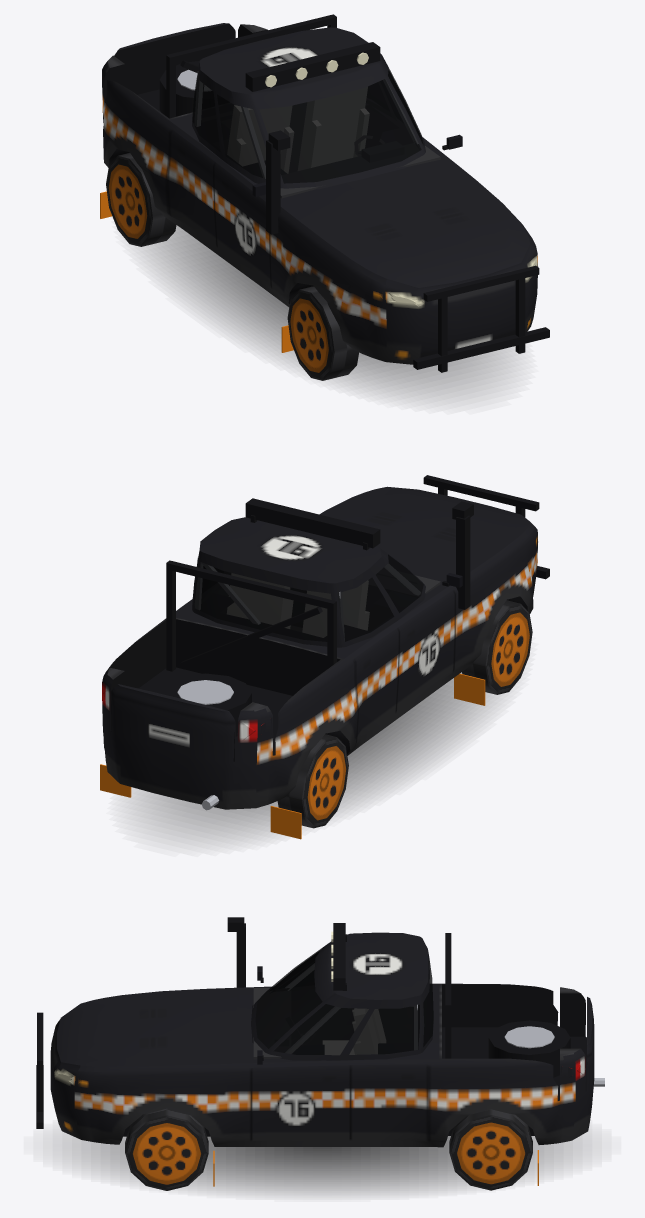
Rendered from tabuleiro.glb.
3 renders of one model, top to bottom at view 1: azimuth 30°, elevation 25°; view 2: azimuth 150°, elevation 25°; view 3: azimuth 270°, elevation 25°, orthographic. The views are drawn at different scales.
Parts seen in each view (by area): view 1: Carroceria, Capo_malha, Sombra, Interior, Porta_D_malha, Porta_TD_malha, Roda_DD, Roda_TD, Tampa_malha, Porta_E_malha; view 2: Carroceria, Sombra, Capo_malha, Porta_TD_malha, Porta_D_malha, Tampa_malha, Interior, Roda_TD, Roda_DD; view 3: Carroceria, Sombra, Capo_malha, Porta_E_malha, Porta_TE_malha, Interior, Roda_DE, Roda_TE, Tampa_malha, Porta_D_malha.
Part boxes in pixels (x1=…): Carroceria: x1=100, y1=14, x2=549, y2=372; Capo_malha: x1=287, y1=165, x2=534, y2=287; Sombra: x1=144, y1=225, x2=512, y2=399; Interior: x1=195, y1=71, x2=440, y2=198; Porta_D_malha: x1=213, y1=91, x2=281, y2=288; Porta_TD_malha: x1=167, y1=61, x2=230, y2=246; Roda_DD: x1=287, y1=286, x2=358, y2=380; Roda_TD: x1=106, y1=153, x2=176, y2=246; Tampa_malha: x1=114, y1=23, x2=235, y2=94; Porta_E_malha: x1=379, y1=55, x2=462, y2=152; Carroceria: x1=100, y1=475, x2=549, y2=839; Sombra: x1=132, y1=672, x2=497, y2=841; Capo_malha: x1=323, y1=486, x2=534, y2=577; Porta_TD_malha: x1=333, y1=557, x2=399, y2=745; Porta_D_malha: x1=380, y1=548, x2=462, y2=712; Tampa_malha: x1=111, y1=684, x2=235, y2=761; Interior: x1=195, y1=558, x2=440, y2=637; Roda_TD: x1=277, y1=734, x2=348, y2=828; Roda_DD: x1=462, y1=600, x2=532, y2=694; Carroceria: x1=36, y1=917, x2=604, y2=1186; Sombra: x1=62, y1=1134, x2=582, y2=1194; Capo_malha: x1=61, y1=989, x2=238, y2=1071; Porta_E_malha: x1=251, y1=994, x2=350, y2=1140; Porta_TE_malha: x1=351, y1=995, x2=428, y2=1141; Interior: x1=253, y1=963, x2=417, y2=1059; Roda_DE: x1=125, y1=1108, x2=208, y2=1190; Roda_TE: x1=449, y1=1109, x2=532, y2=1190; Tampa_malha: x1=586, y1=997, x2=594, y2=1090; Porta_D_malha: x1=257, y1=951, x2=319, y2=990.
Size of the model in its own units: 2.64 by 2.09 by 5.9.
14 materials, 5 textured.
